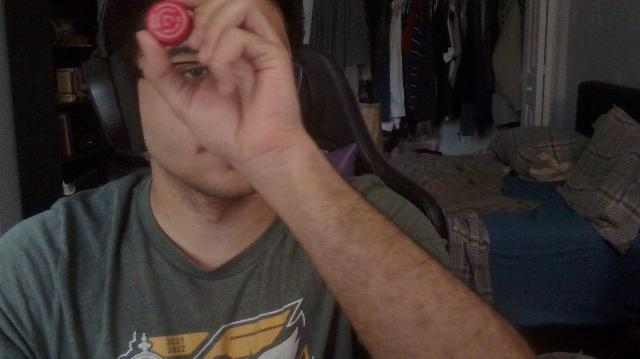cap: (146, 1, 190, 46)
